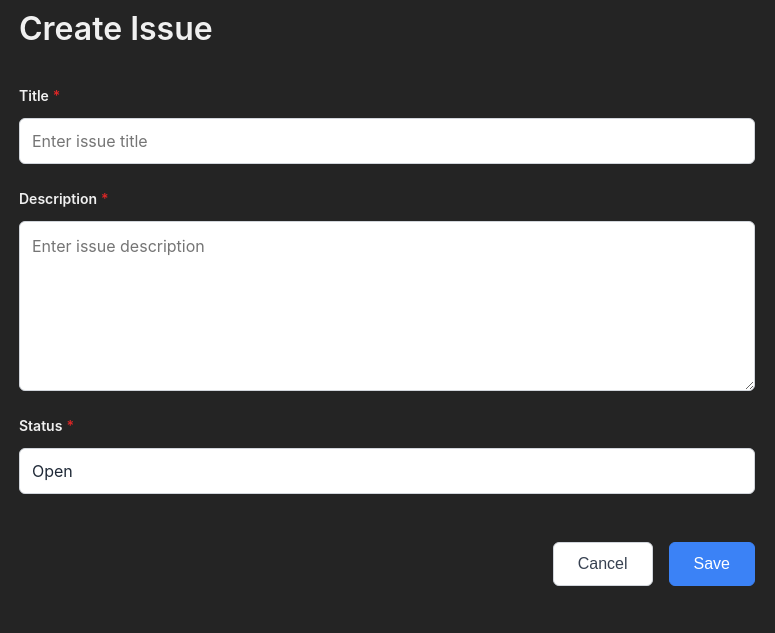
Test case: CreateIssuePage › validation errors › clears field errors when user fixes them
// Submit empty form
Click the button "Save".
click(712, 564)  # box [668,542,755,586]
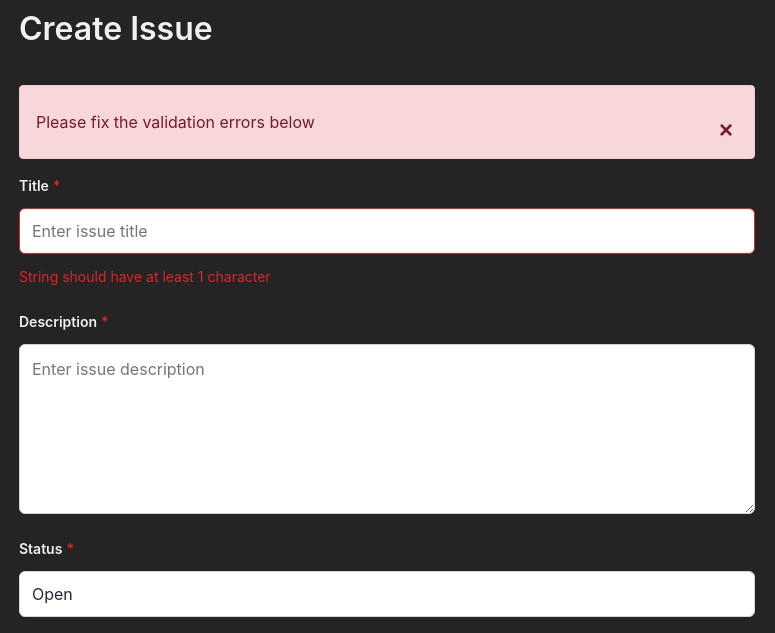
Expected: the text "String should have at least 1 character" is shown, [19,268,271,285]
// Fix the error by typing in the field
Type "Fixed Title" into the field labelled "Title*".
click(387, 231); type("Fixed Title")  # box [19,208,755,254]
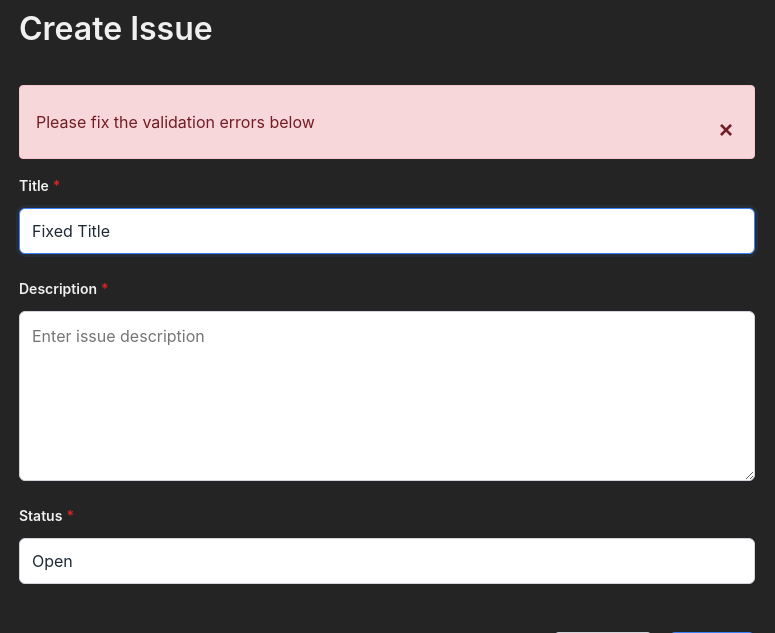
Expected: the text "String should have at least 1 character" is gone
